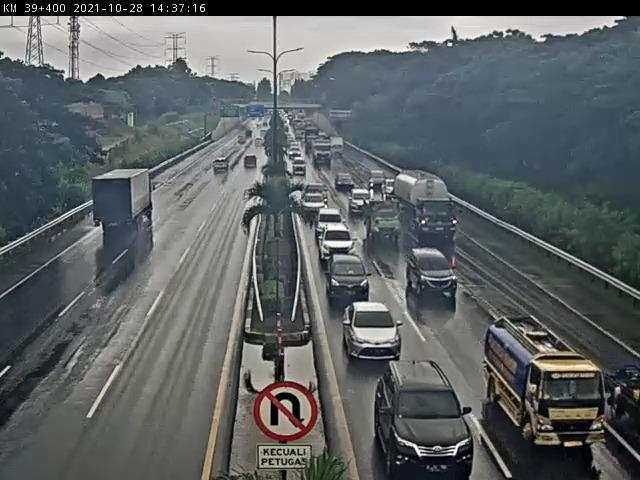car: (374, 357, 474, 478), (342, 300, 400, 358), (407, 249, 460, 299), (326, 251, 373, 304), (323, 228, 356, 263), (316, 208, 347, 243), (347, 185, 376, 214), (301, 192, 326, 219), (334, 172, 360, 192), (367, 170, 387, 193), (302, 181, 330, 197), (213, 157, 231, 175), (293, 158, 310, 176), (243, 155, 259, 172)
truck: (484, 315, 606, 449), (395, 169, 460, 239), (94, 170, 157, 233), (603, 365, 640, 438), (364, 203, 403, 247), (311, 137, 336, 166)
